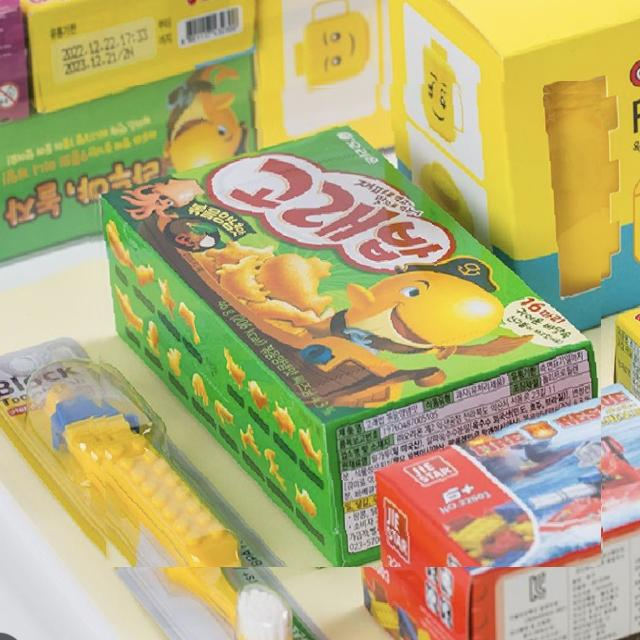biodegradable: (89, 83, 601, 568)
